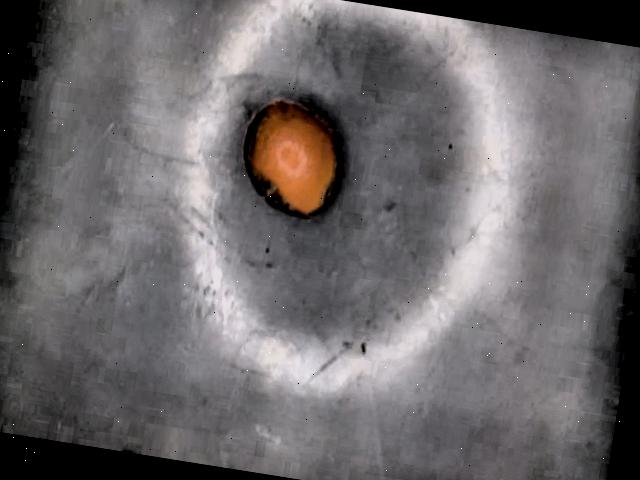Almennt: (241, 102, 337, 214)
